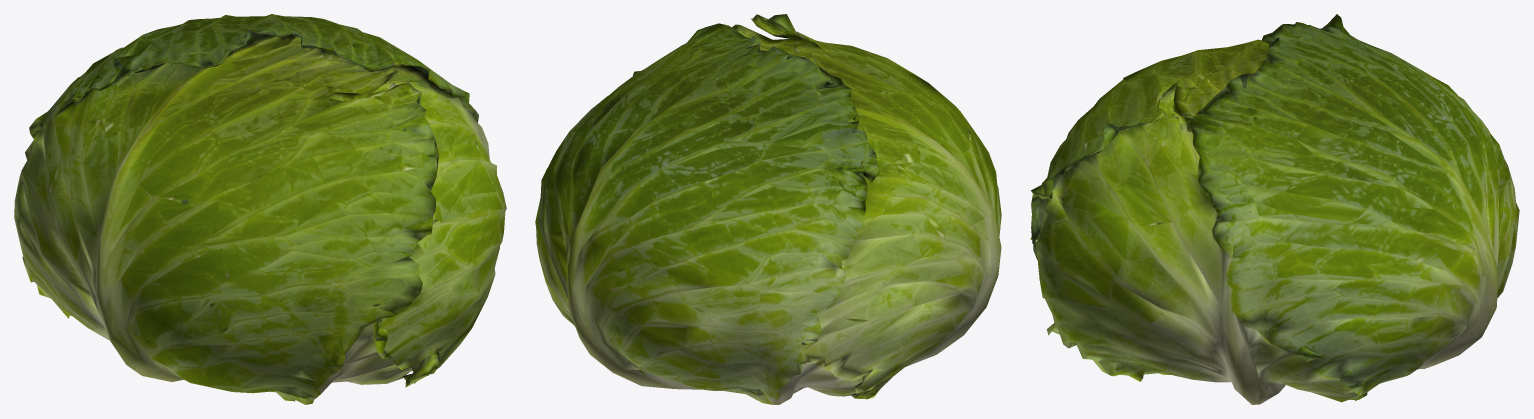
Rendered from cabbage.fbx.
3 views of the same model, side by side, from view 1: azimuth 30°, elevation 25°; view 2: azimuth 150°, elevation 25°; view 3: azimuth 270°, elevation 25° (orthographic). The views are drawn at different scales.
Parts seen in each view (by area): view 1: Object_2; view 2: Object_2; view 3: Object_2.
Part boxes in pixels (<box>): Object_2: <box>14,14,506,404</box>; Object_2: <box>535,14,1001,404</box>; Object_2: <box>1030,14,1519,404</box>.
Size of the model in its own units: 17.16 by 12.77 by 17.94.
Materials: 1 (1 with a texture image).
